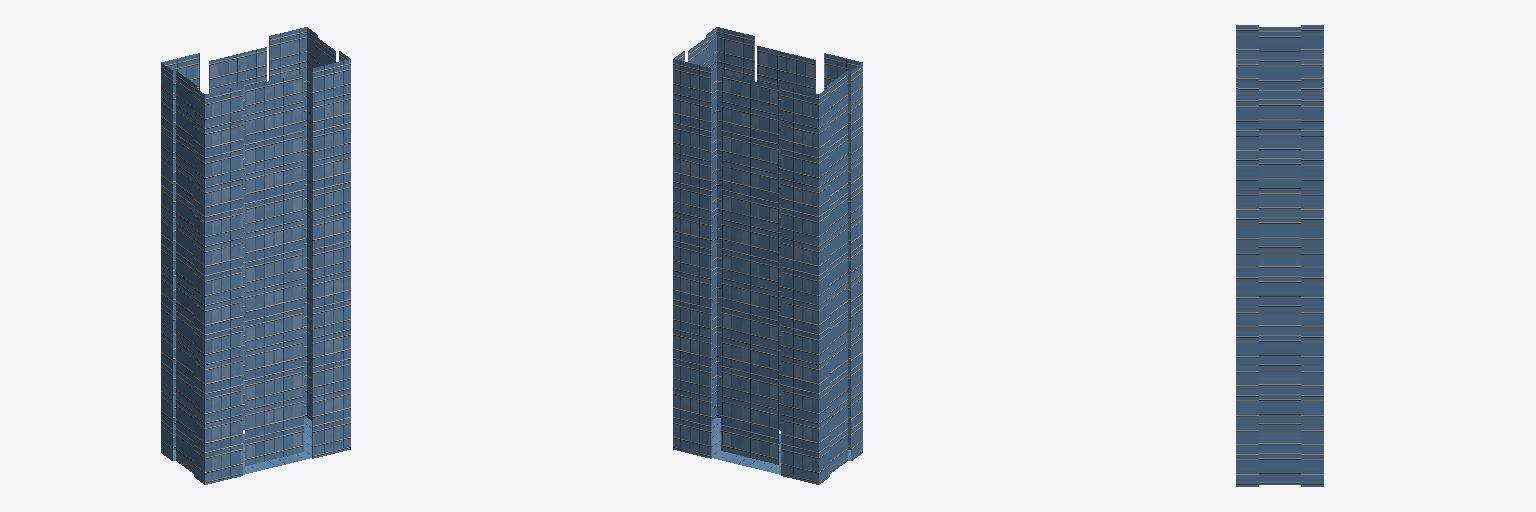
3 renders of one model, left to right at view 1: azimuth 30°, elevation 25°; view 2: azimuth 150°, elevation 25°; view 3: azimuth 270°, elevation 25°, orthographic.
Bounding box in the file's own units: 75.41 × 193 × 39.29.
1 materials, 1 textured.